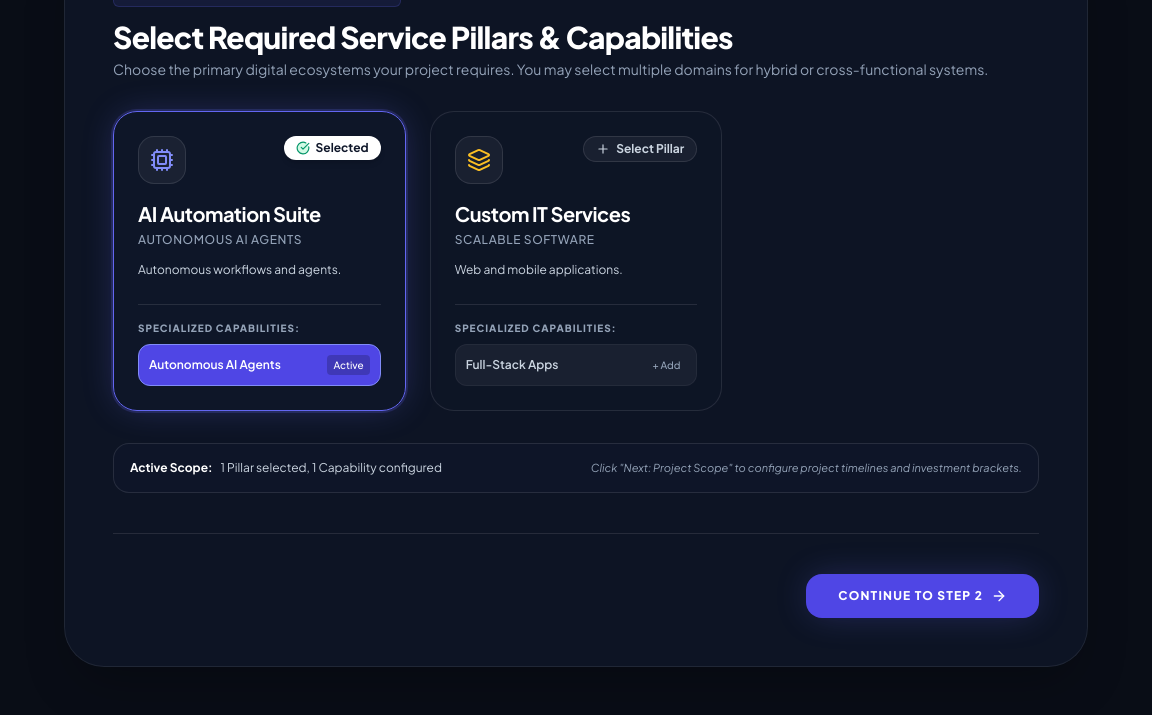
Test: InquiryConfigurator Component Test Suite › preserves user inputs when navigating backward and forward
The width and height of the screenshot is (1152, 715).
(page scrolled)
Click the button "Continue to Step 2".
click(923, 596)  # box [806, 574, 1039, 618]
(page scrolled)
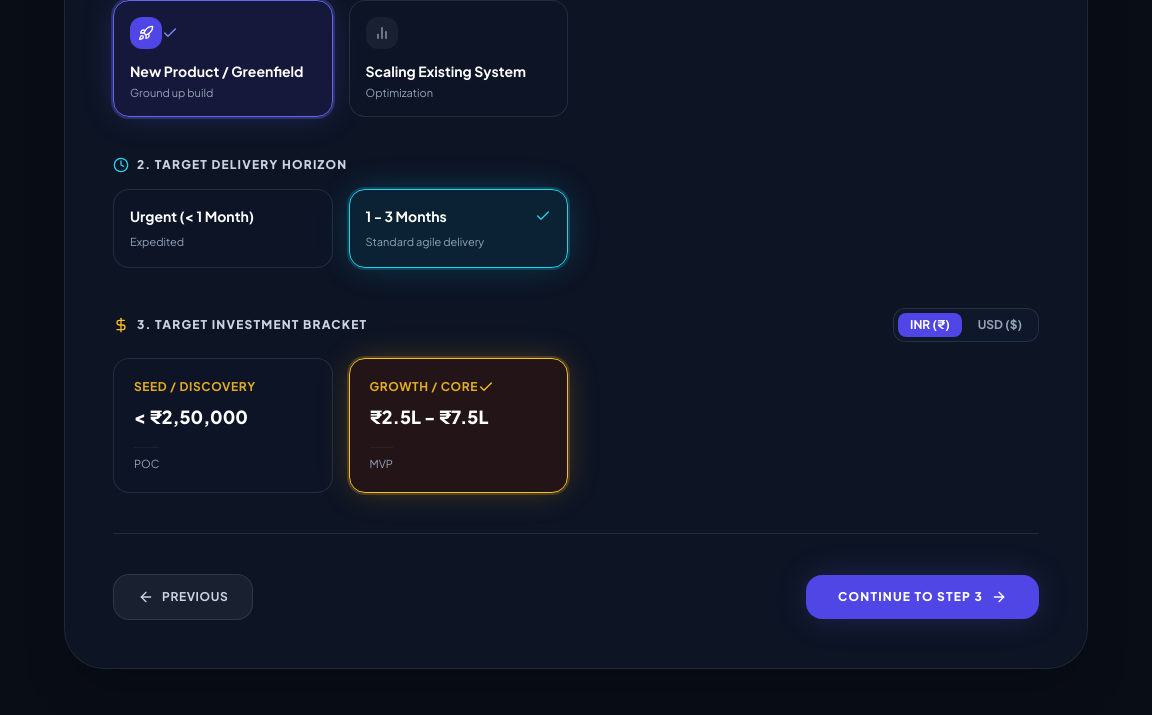
Select Urgent timeline
Click the text "Urgent (< 1 Month)".
click(192, 216)  # box [130, 206, 254, 226]
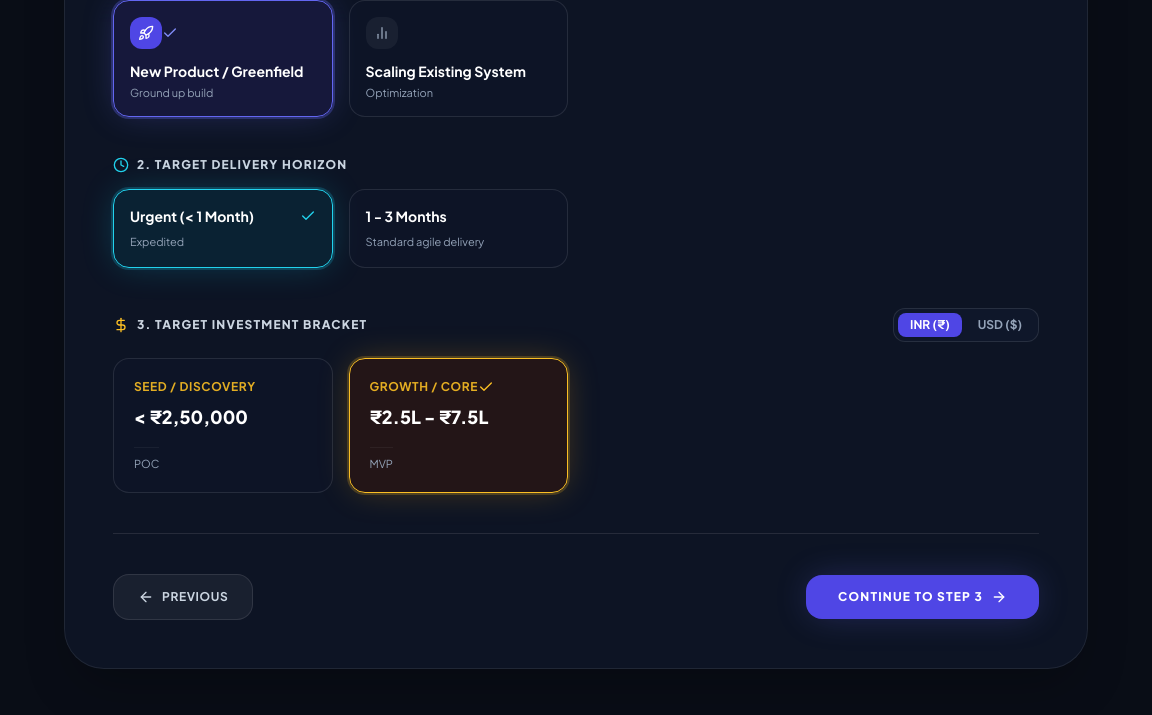
Navigate back to Step 1
Click the button "Previous".
click(183, 597)  # box [113, 574, 253, 620]
(page scrolled)
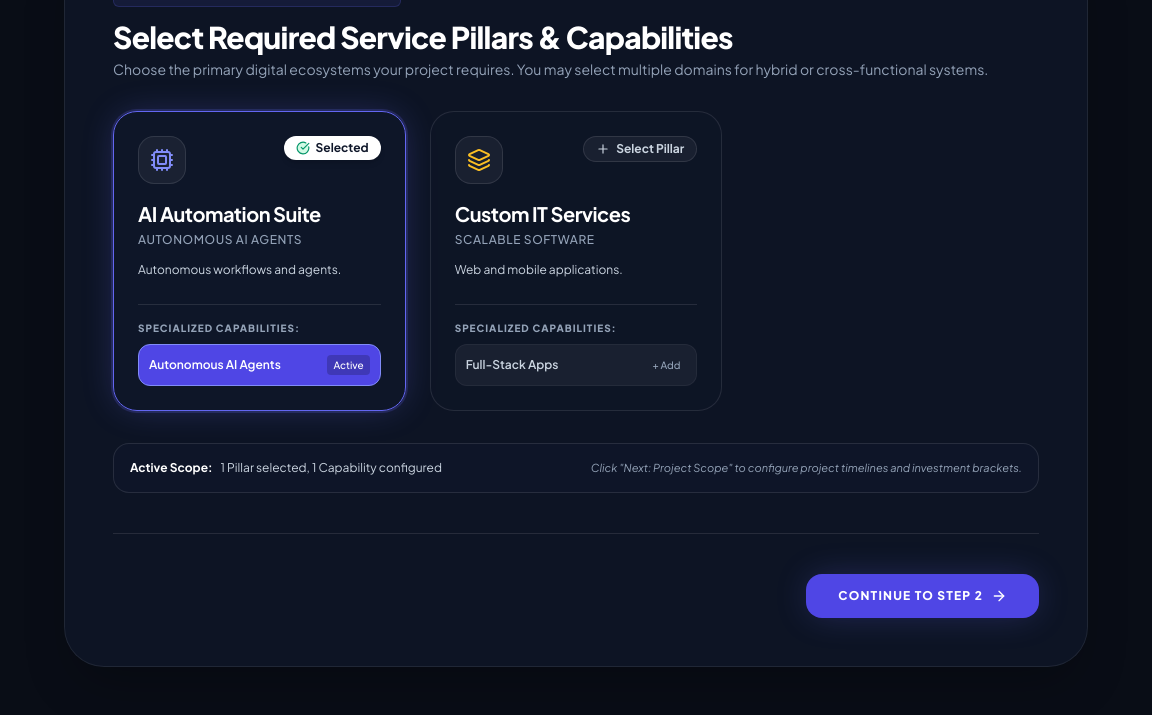
Now the heading "Select Required Service Pillars & Capabilities" is shown, box [113, 18, 733, 56]
Navigate forward to Step 2 again
Click the button "Continue to Step 2".
click(923, 596)  # box [806, 574, 1039, 618]
(page scrolled)
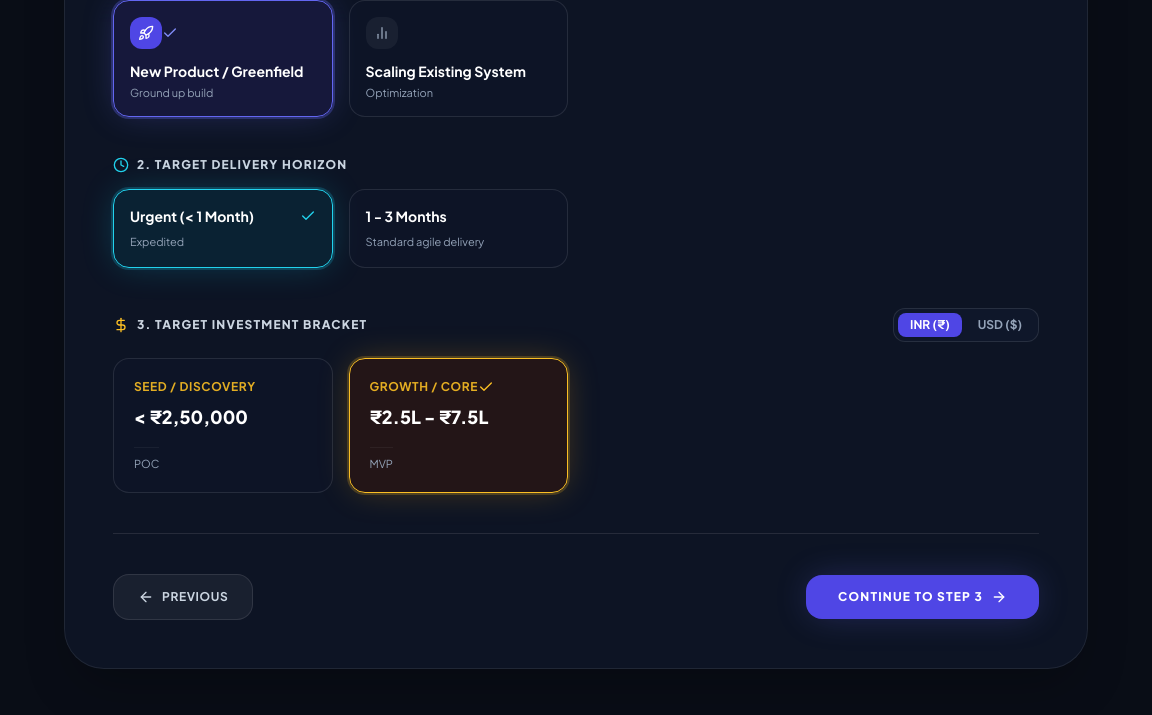
Now the text "Urgent (< 1 Month)" is shown, box [130, 206, 254, 226]
